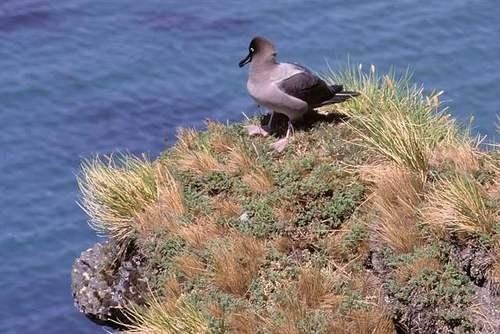bird: (236, 34, 355, 156)
